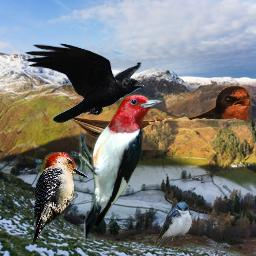Crow: (24, 42, 146, 123)
Swallow: (69, 84, 252, 150), (154, 201, 193, 249)
Woodpecker: (69, 94, 165, 246), (33, 152, 91, 242)
